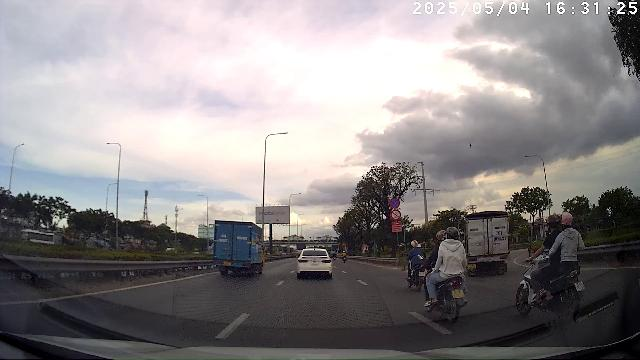130-cam-dung-va-do-xe: (389, 198, 400, 209)
